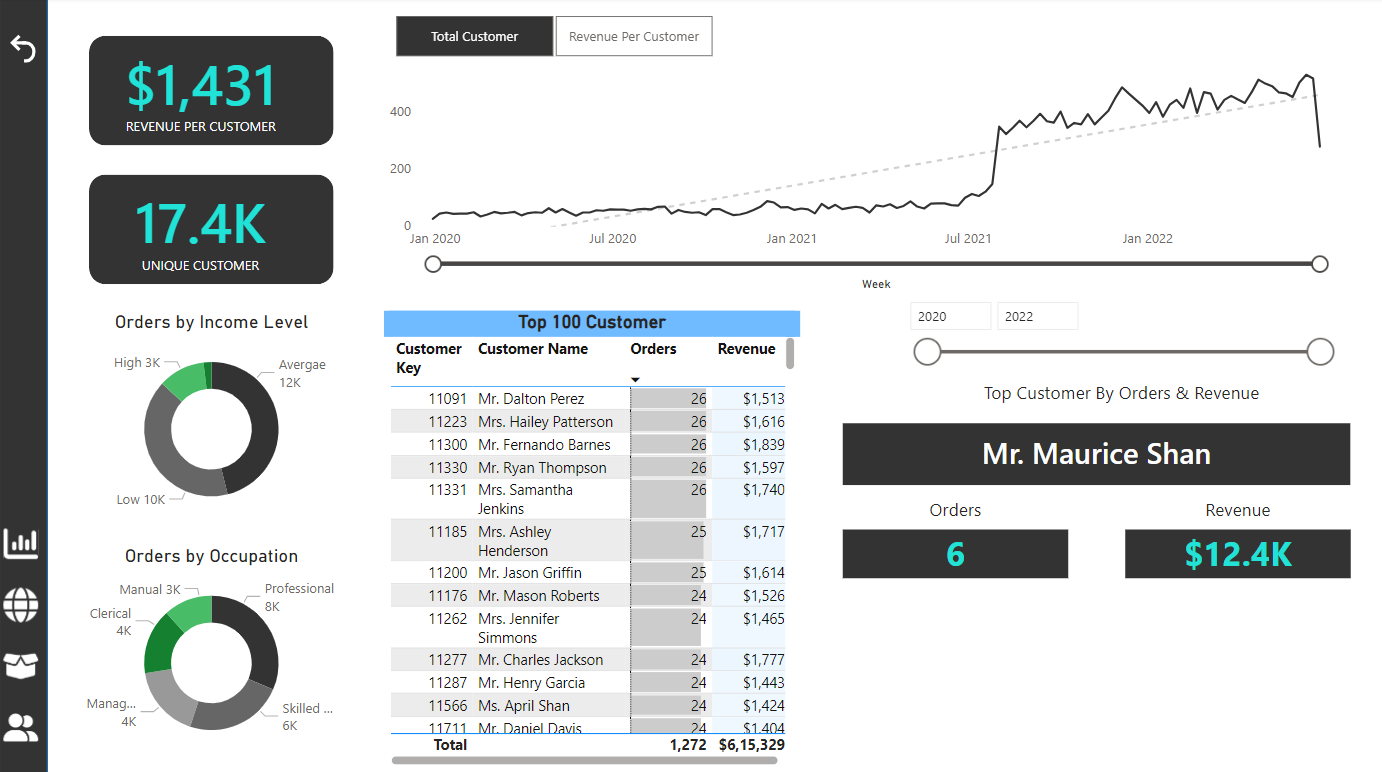

The dashboard page shown, as its layout file describes it:
{"tool":"powerbi","page":{"name":"Customer Detail","canvas":[1280,720],"ordinal":3},"visuals":[{"type":"actionButton","box":[0,482.8,45,40.2],"z":0,"group":"g1"},{"type":"actionButton","box":[0,539.2,45,40.2],"z":1000,"group":"g1"},{"type":"shape","box":[83,163.3,224.9,100.6],"z":1000},{"type":"shape","box":[83.1,35.5,224.9,100.6],"z":1500},{"type":"card","fields":{"Values":["Measure Table.Average Revenue Per Customer"]},"box":[94.7,32,182.2,107.7],"z":2000},{"type":"actionButton","box":[0,652,45,40.2],"z":2000,"group":"g1"},{"type":"actionButton","box":[0,595.6,45,40.2],"z":3000,"group":"g1"},{"type":"card","fields":{"Values":["Measure Table.Total Customer"]},"box":[91.1,156.2,189.4,113.6],"z":3000},{"type":"shape","title":"Left Nav Background","box":[0,0,45,720],"z":4000},{"type":"lineChart","fields":{"Y":["Measure Table.Total Customer"],"Category":["Calendar Lookup.Date Hierarchy.Start of Year","Calendar Lookup.Date Hierarchy.Start of Month","Calendar Lookup.Date Hierarchy.Start of Week","Calendar Lookup.Date Hierarchy.Date"]},"box":[353.8,39.1,888.8,234.3],"z":5000},{"type":"donutChart","title":"Orders by Income Level","fields":{"Category":["Customer Lookup.Income Level"],"Y":["Measure Table.Total Orders"]},"box":[72.2,288.8,246.2,198.8],"z":6000},{"type":"donutChart","title":"Orders by Occupation","fields":{"Y":["Measure Table.Total Orders"],"Category":["Customer Lookup.Occupation"]},"box":[72.2,503,246.2,198.8],"z":7000},{"type":"tableEx","title":"Top 100 Customer","fields":{"Values":["Customer Lookup.CustomerKey","Customer Lookup.Full Name","Measure Table.Total Orders","Measure Table.Total Revenue"]},"box":[353.8,288.3,382.5,422.7],"z":8000},{"type":"card","fields":{"Values":["Customer Lookup.Full Name (Customer Detail)"]},"box":[775.4,392,466.3,56.8],"z":9000},{"type":"card","fields":{"Values":["Measure Table.Total Revenune (Customer Details)"]},"box":[1034.6,489.7,207.1,45],"z":10000},{"type":"card","fields":{"Values":["Measure Table.Total Orders (Customer Detail)"]},"box":[775.4,489.7,207.1,45],"z":11000},{"type":"textbox","box":[888.5,346.5,285.2,33.1],"z":12000},{"type":"textbox","box":[1072.4,454.7,131.4,35.5],"z":13000},{"type":"textbox","box":[813.3,454.7,131.4,35.5],"z":14000},{"type":"slicer","fields":{"Values":["Calendar Lookup.Year"]},"box":[824.9,269.8,410.7,78.1],"z":15000},{"type":"actionButton","box":[4.7,23.7,35.5,46.2],"z":16000},{"type":"group","id":"g1","title":"Navigation Button ","box":[0,482.8,45,209.5],"z":17000},{"type":"slicer","fields":{"Values":["Customer Metric Selection .Customer Metric Selection "]},"box":[338.5,10.7,340.8,50.9],"z":19000}]}

Visuals, with their boxes on the page's 1280x720 design canvas (x1, y1, x2, y2). These are canvas units, not pixel positions in the 1382x772 screenshot, which may show the page scaled, cropped or inside an application window:
actionButton: box=[0, 483, 45, 523]
actionButton: box=[0, 539, 45, 579]
shape: box=[83, 163, 308, 264]
shape: box=[83, 36, 308, 136]
card - Measure Table.Average Revenue Per Customer: box=[95, 32, 277, 140]
actionButton: box=[0, 652, 45, 692]
actionButton: box=[0, 596, 45, 636]
card - Measure Table.Total Customer: box=[91, 156, 280, 270]
"Left Nav Background" shape: box=[0, 0, 45, 720]
lineChart - Measure Table.Total Customer x Calendar Lookup.Date Hierarchy.Start of Year: box=[354, 39, 1243, 273]
"Orders by Income Level" donutChart: box=[72, 289, 318, 488]
"Orders by Occupation" donutChart: box=[72, 503, 318, 702]
"Top 100 Customer" tableEx: box=[354, 288, 736, 711]
card - Customer Lookup.Full Name (Customer Detail): box=[775, 392, 1242, 449]
card - Measure Table.Total Revenune (Customer Details): box=[1035, 490, 1242, 535]
card - Measure Table.Total Orders (Customer Detail): box=[775, 490, 982, 535]
textbox: box=[888, 346, 1174, 380]
textbox: box=[1072, 455, 1204, 490]
textbox: box=[813, 455, 945, 490]
slicer - Calendar Lookup.Year: box=[825, 270, 1236, 348]
actionButton: box=[5, 24, 40, 70]
"Navigation Button " group: box=[0, 483, 45, 692]
slicer - Customer Metric Selection .Customer Metric Selection : box=[338, 11, 679, 62]
